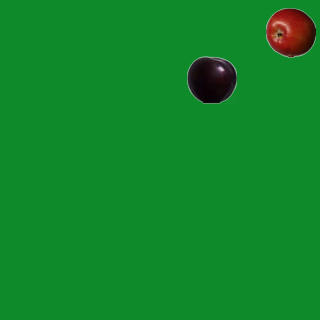Apple Braeburn: (265, 7, 315, 57)
Cherry Wax Black: (186, 54, 236, 104)
